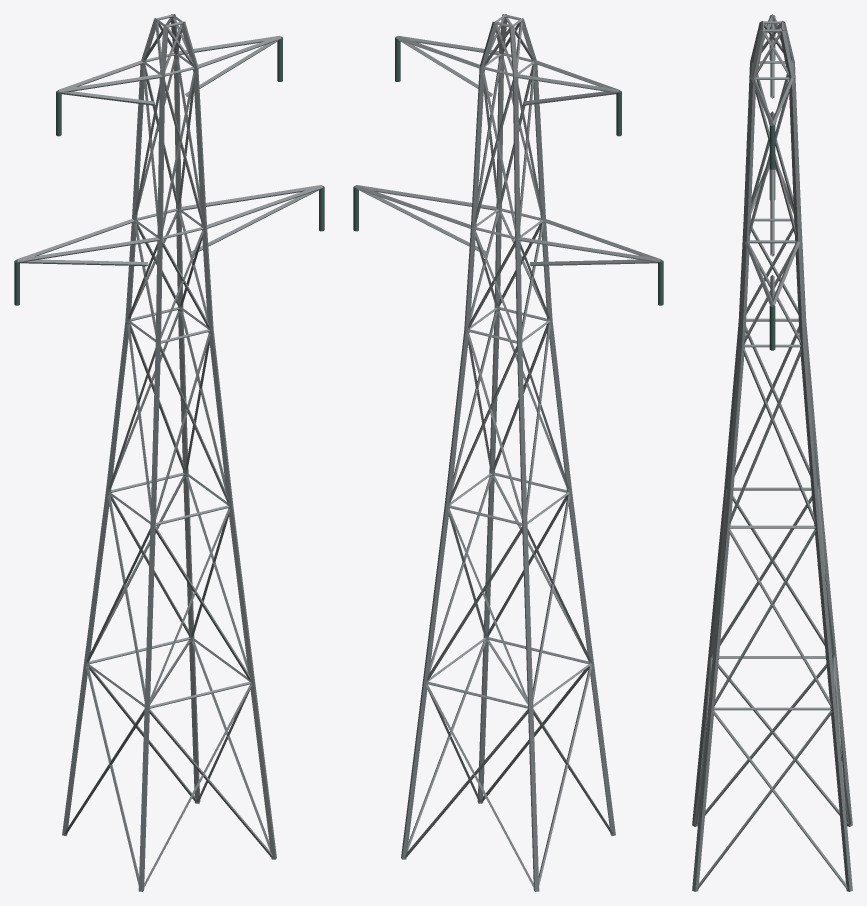
The model's file is power_tower.glb.
3 views of the same model, side by side, from view 1: azimuth 30°, elevation 25°; view 2: azimuth 150°, elevation 25°; view 3: azimuth 270°, elevation 25° (orthographic).
Parts seen in each view (by area): view 1: Tower; view 2: Tower; view 3: Tower.
Part boxes in pixels (x1,y1,x2,y2): Tower: [14, 14, 324, 891]; Tower: [353, 14, 663, 891]; Tower: [692, 14, 852, 891].
Size of the model in its own units: 11.16 by 28.58 by 5.
